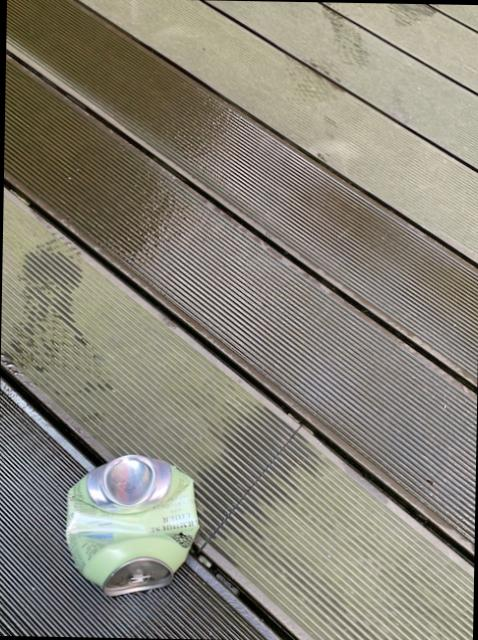metal: (64, 453, 196, 593)
